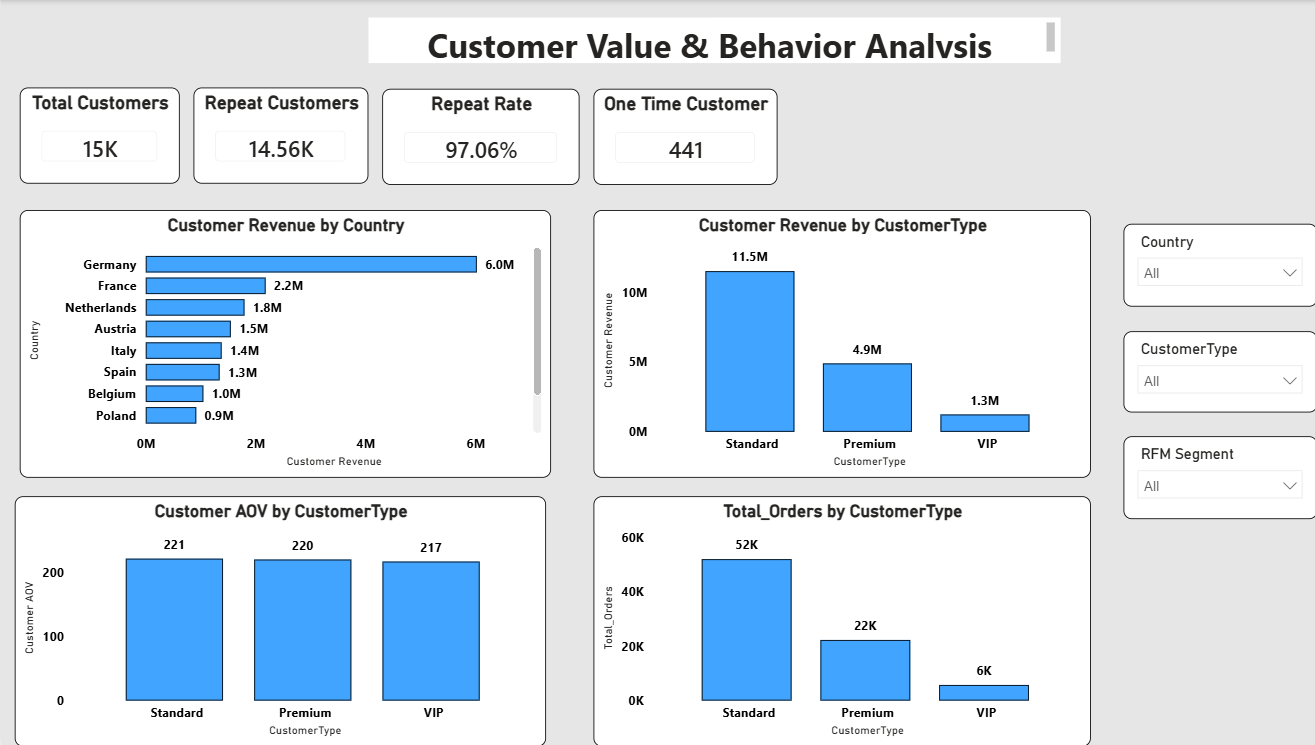

The page's visual inventory and layout, read from the dashboard file:
{"tool":"powerbi","page":{"name":"Customer Analysis","canvas":[1280,720],"ordinal":1},"visuals":[{"type":"cardVisual","title":"Total Customers","fields":{"Data":["DimCustomer.Total Customers"]},"box":[18.1,84.5,154.4,92.9],"z":0},{"type":"cardVisual","title":"Repeat Customers","fields":{"Data":["DimCustomer.Repeat Customers"]},"box":[185.8,84.5,168.9,92.9],"z":1000},{"type":"cardVisual","title":"Repeat  Rate","fields":{"Data":["DimCustomer.Repeat Customer Rate"]},"box":[368,85.7,190.6,92.9],"z":2000},{"type":"cardVisual","title":"One Time Customer","fields":{"Data":["DimCustomer.One Time Customers"]},"box":[571.9,85.7,177.3,92.9],"z":3000},{"type":"clusteredColumnChart","fields":{"Category":["DimCustomer.CustomerType"],"Y":["DimCustomer.Customer Revenue"]},"box":[571.9,202.7,480.2,258.2],"z":4000},{"type":"clusteredBarChart","fields":{"Category":["DimCustomer.Country"],"Y":["DimCustomer.Customer Revenue"]},"box":[18.1,202.7,512.7,258.2],"z":5000},{"type":"textbox","box":[354.6,17.1,667.7,44],"z":6000},{"type":"clusteredColumnChart","fields":{"Category":["DimCustomer.CustomerType"],"Y":["DimCustomer.Customer AOV"]},"box":[13.3,479,512.7,241.3],"z":7000},{"type":"clusteredColumnChart","fields":{"Category":["DimCustomer.CustomerType"],"Y":["DimCustomer.Total_Orders"]},"box":[571.9,479,480.2,241.3],"z":8000},{"type":"slicer","fields":{"Values":["DimCustomer.Country"]},"box":[1083.4,216,187,79.6],"z":9000},{"type":"slicer","fields":{"Values":["DimCustomer.CustomerType"]},"box":[1083.4,319.7,187,78.4],"z":10000},{"type":"slicer","fields":{"Values":["RFMSummary.RFM Segment"]},"box":[1083.4,421,187,79.6],"z":11000}]}

Visuals, with their boxes in screenshot pixels (x1, y1, x2, y2), scaled from the page's 1280x720 canvas onto the 1315x745 screenshot:
"Total Customers" cardVisual: 19,87,177,184
"Repeat Customers" cardVisual: 191,87,364,184
"Repeat  Rate" cardVisual: 378,89,574,185
"One Time Customer" cardVisual: 588,89,770,185
clusteredColumnChart - DimCustomer.CustomerType x DimCustomer.Customer Revenue: 588,210,1081,477
clusteredBarChart - DimCustomer.Country x DimCustomer.Customer Revenue: 19,210,545,477
textbox: 364,18,1050,63
clusteredColumnChart - DimCustomer.CustomerType x DimCustomer.Customer AOV: 14,496,540,744
clusteredColumnChart - DimCustomer.CustomerType x DimCustomer.Total_Orders: 588,496,1081,744
slicer - DimCustomer.Country: 1113,224,1305,306
slicer - DimCustomer.CustomerType: 1113,331,1305,412
slicer - RFMSummary.RFM Segment: 1113,436,1305,518
